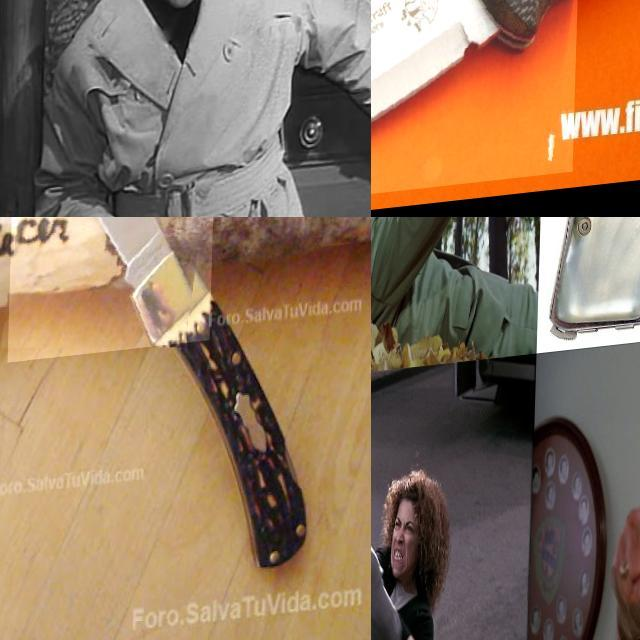-: (371, 0, 583, 216), (9, 217, 218, 368)
gun-knife-thesis - v11 Yolov5 augmented: (371, 217, 393, 265)
